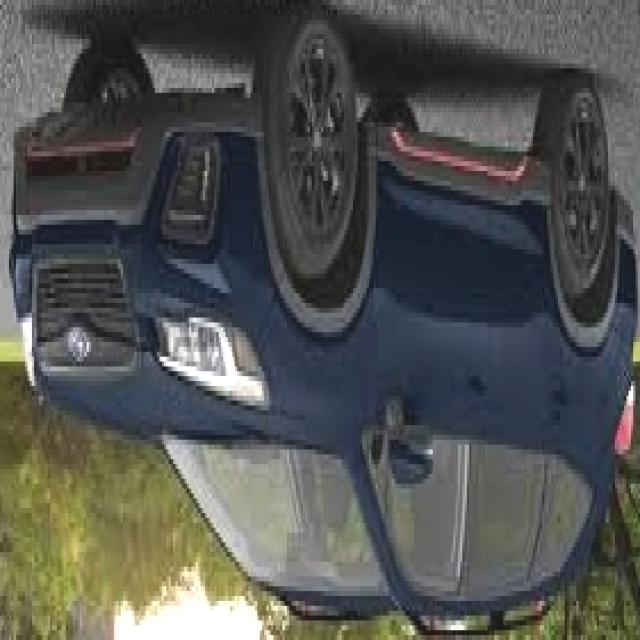blue: (10, 0, 638, 626)
